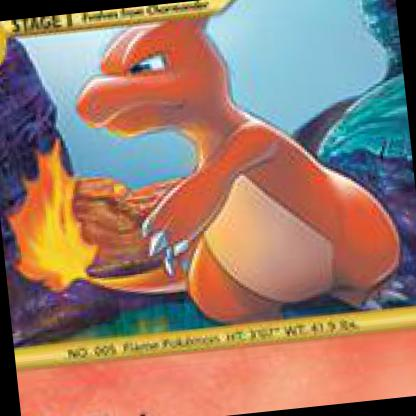Glutexo: (45, 0, 415, 415)
